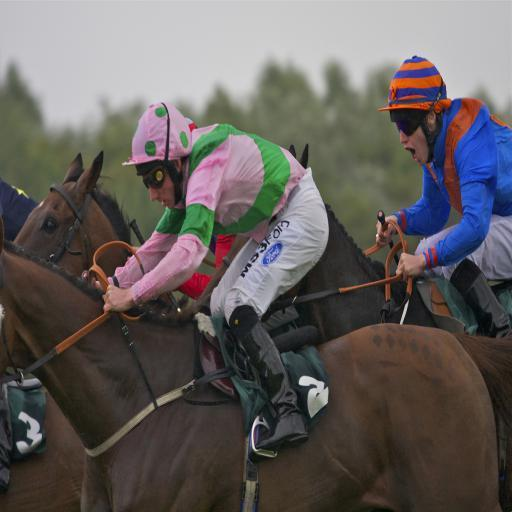horse: (0, 216, 512, 512), (195, 142, 437, 348), (12, 150, 195, 314), (0, 386, 86, 512)
